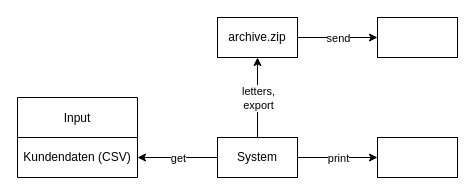
Some shapes in this 475 by 195 pixel diagram are drawn without their labels. Each missing label, with the centre of its shape:
"brief" goes at point 417,157.
"mail" goes at point 417,37.
